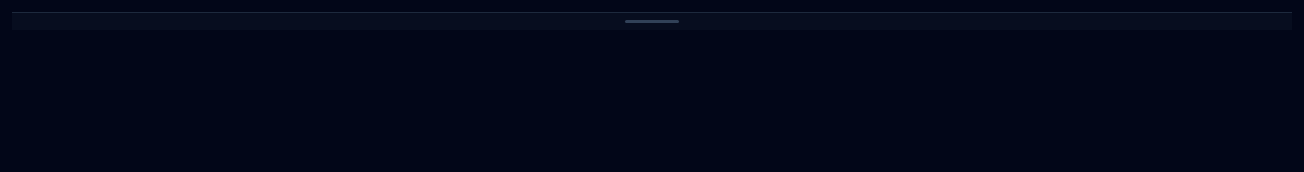
QuickActions › startuje zwinięty i rozwija się po kliknięciu uchwytu
Click the button named "Show quick actions": (652, 22) x1=12 y1=13 x2=1292 y2=30
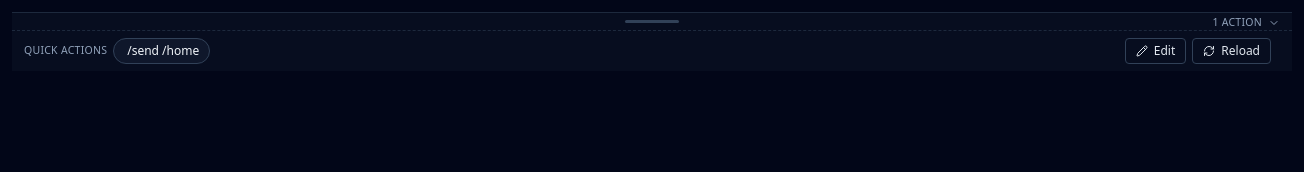
Check: the button "1 action" is expanded
Click the button "1 action": (652, 22) x1=12 y1=13 x2=1292 y2=30
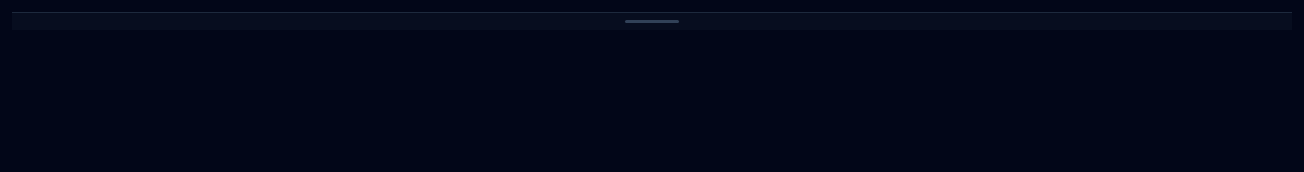
Check: the button named "Show quick actions" is collapsed, box x1=12 y1=13 x2=1292 y2=30
